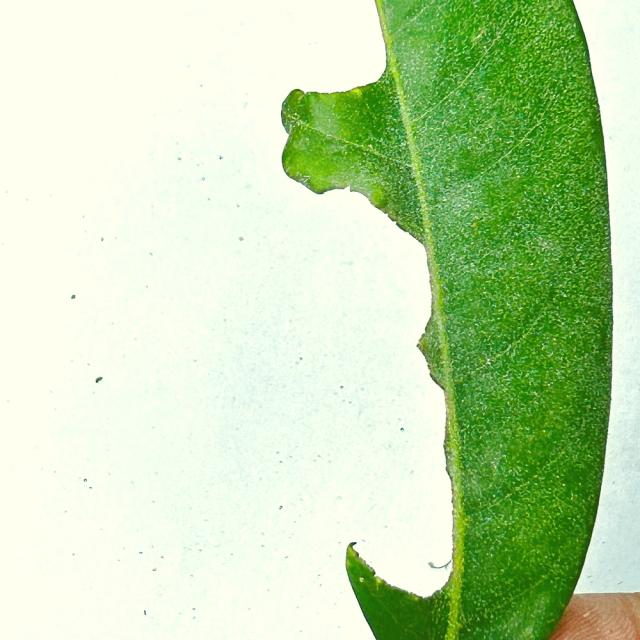Deficiency Leaf: (296, 189, 451, 595), (266, 0, 385, 100)
Lychee: (282, 0, 612, 639)
